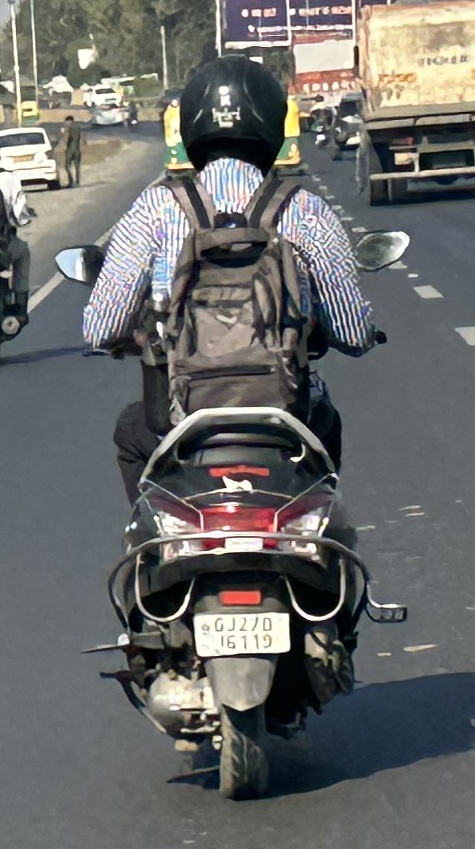BikeWithRider: (41, 42, 436, 797)
Helmet: (167, 50, 299, 171)
